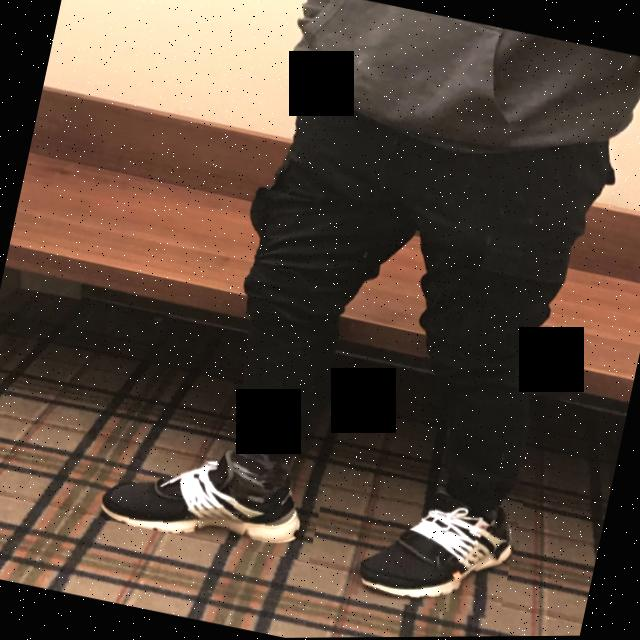shoe: (76, 435, 324, 563), (346, 469, 523, 625)
